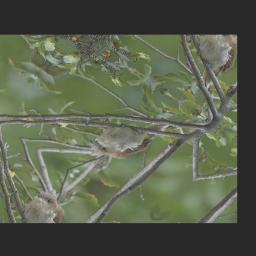Cuckoo: (84, 100, 171, 172)
